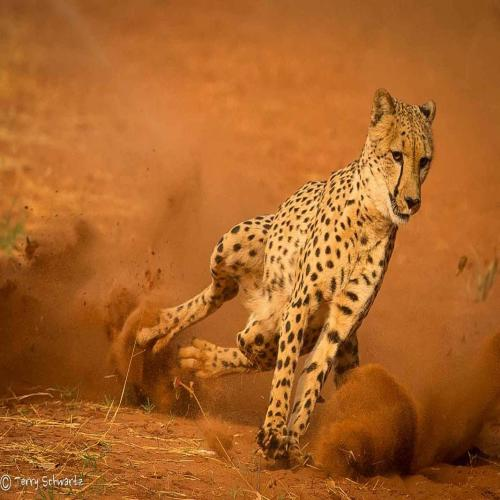cheetah-endangered: (136, 91, 436, 456)
